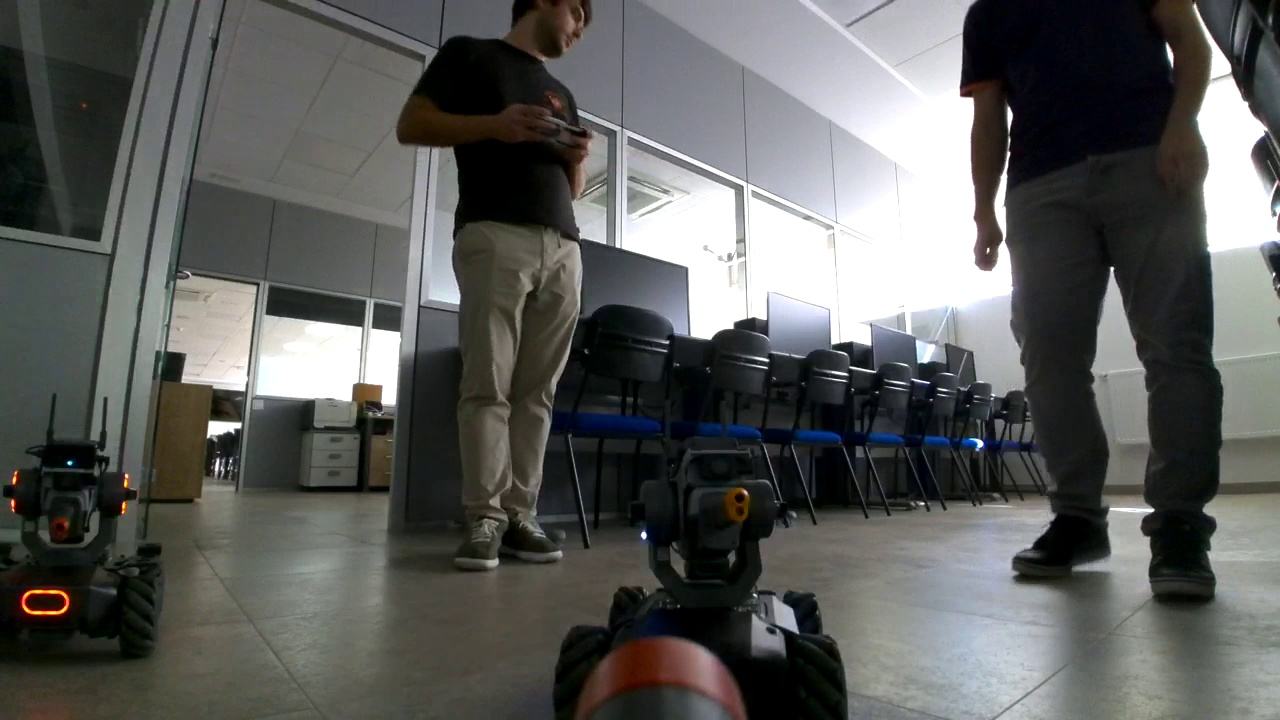robot: (558, 443, 853, 720), (4, 439, 167, 650)
